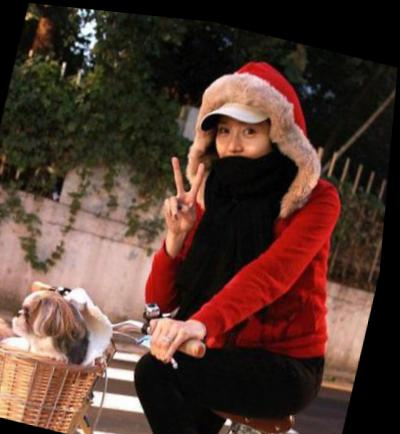WRONG: (203, 105, 286, 187)
